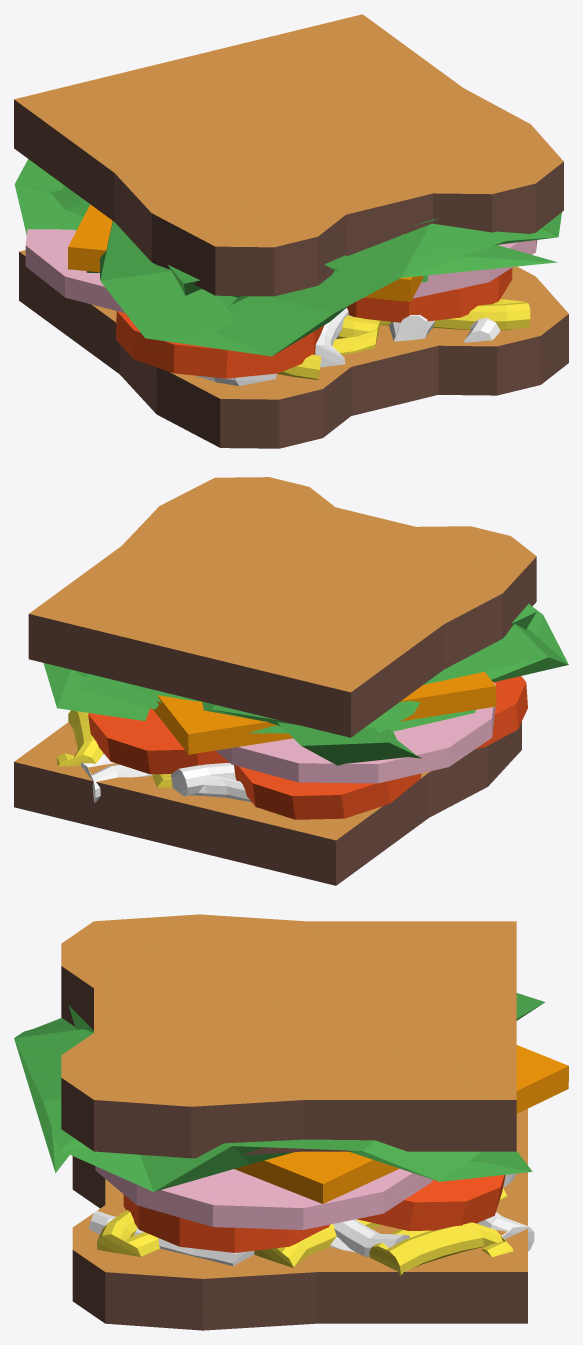
The model's file is Sandwhich-transformed.glb.
3 renders of one model, top to bottom at view 1: azimuth 30°, elevation 25°; view 2: azimuth 150°, elevation 25°; view 3: azimuth 270°, elevation 25°, orthographic. The views are drawn at different scales.
Visible parts, largest first — view 1: group1021991821; view 2: group1021991821; view 3: group1021991821.
Part boxes in pixels (bbox=[...]): group1021991821: bbox=[14, 14, 568, 448]; group1021991821: bbox=[14, 477, 568, 885]; group1021991821: bbox=[14, 914, 568, 1330].
Size of the model in its own units: 0.6697 by 0.2964 by 0.6826.
1 material, 1 textured.
